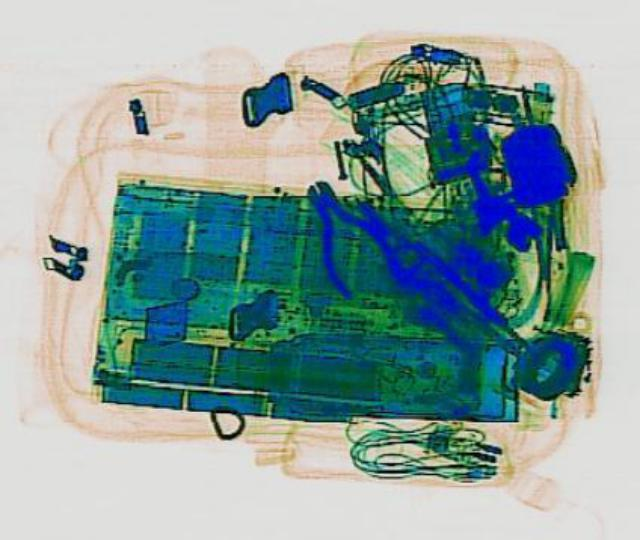Pliers: (276, 166, 408, 298)
